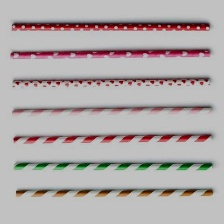drinking_straw: (6, 100, 217, 121), (6, 73, 215, 94), (8, 130, 217, 149), (6, 45, 215, 64), (7, 17, 214, 36), (11, 183, 217, 202), (10, 158, 217, 175)
